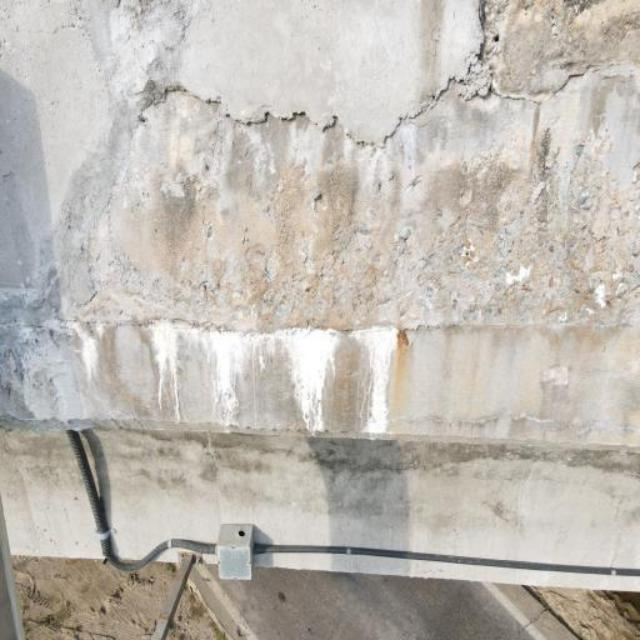D01: (282, 330, 341, 433), (354, 326, 397, 437)
